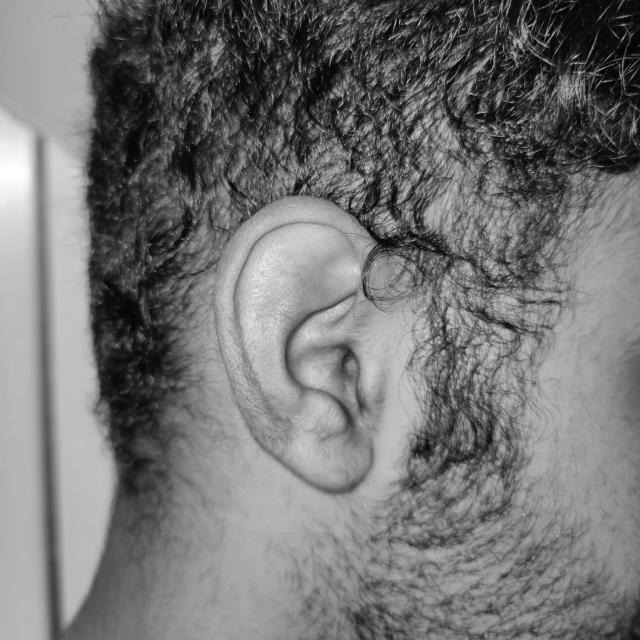ear: (214, 196, 397, 491), (382, 275, 383, 276)
